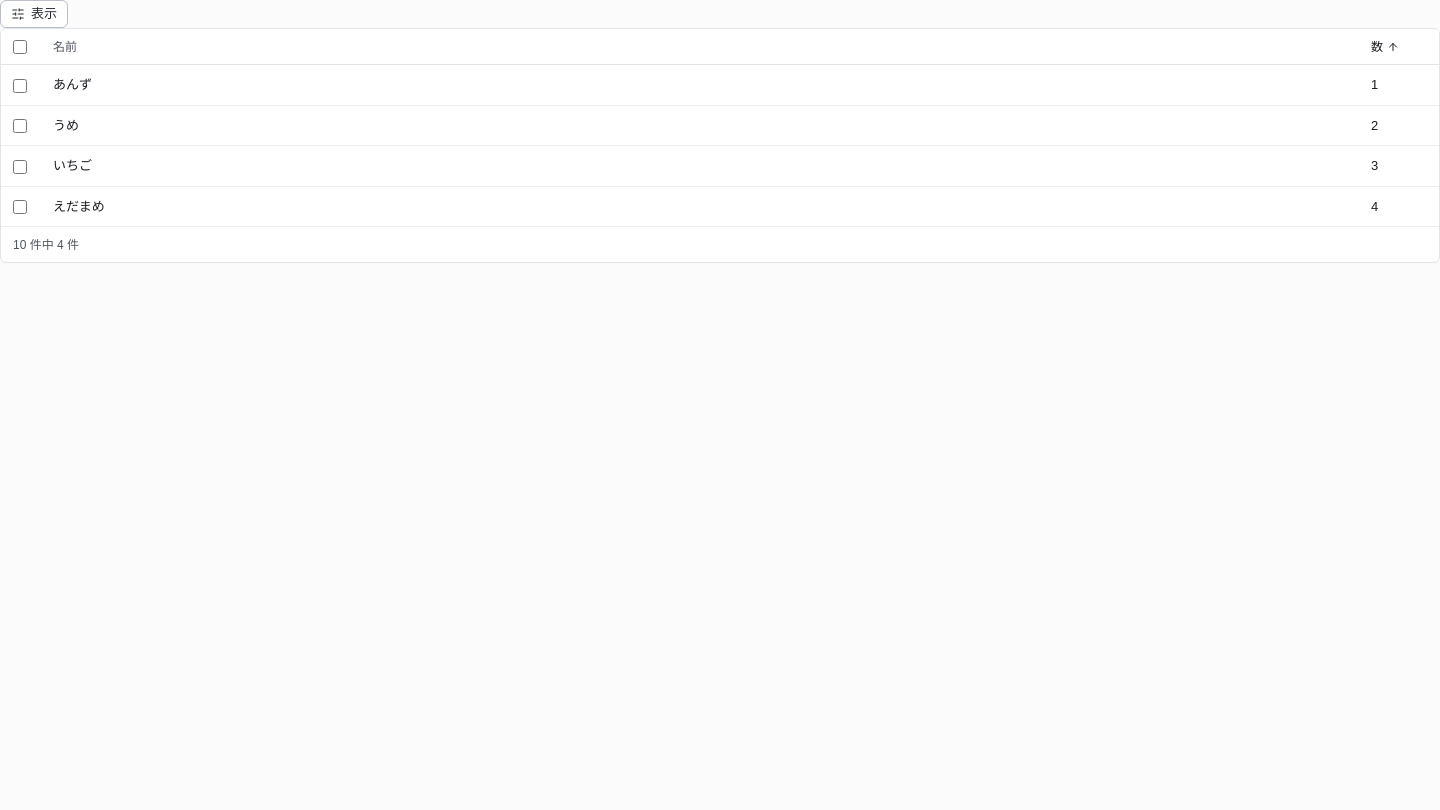
Test case: DataTable › hides a column and groups from the view menu
Later steps or results of the test are not shown.
Step 1. Click the button "表示" → click(34, 14), box [0,0,68,28]
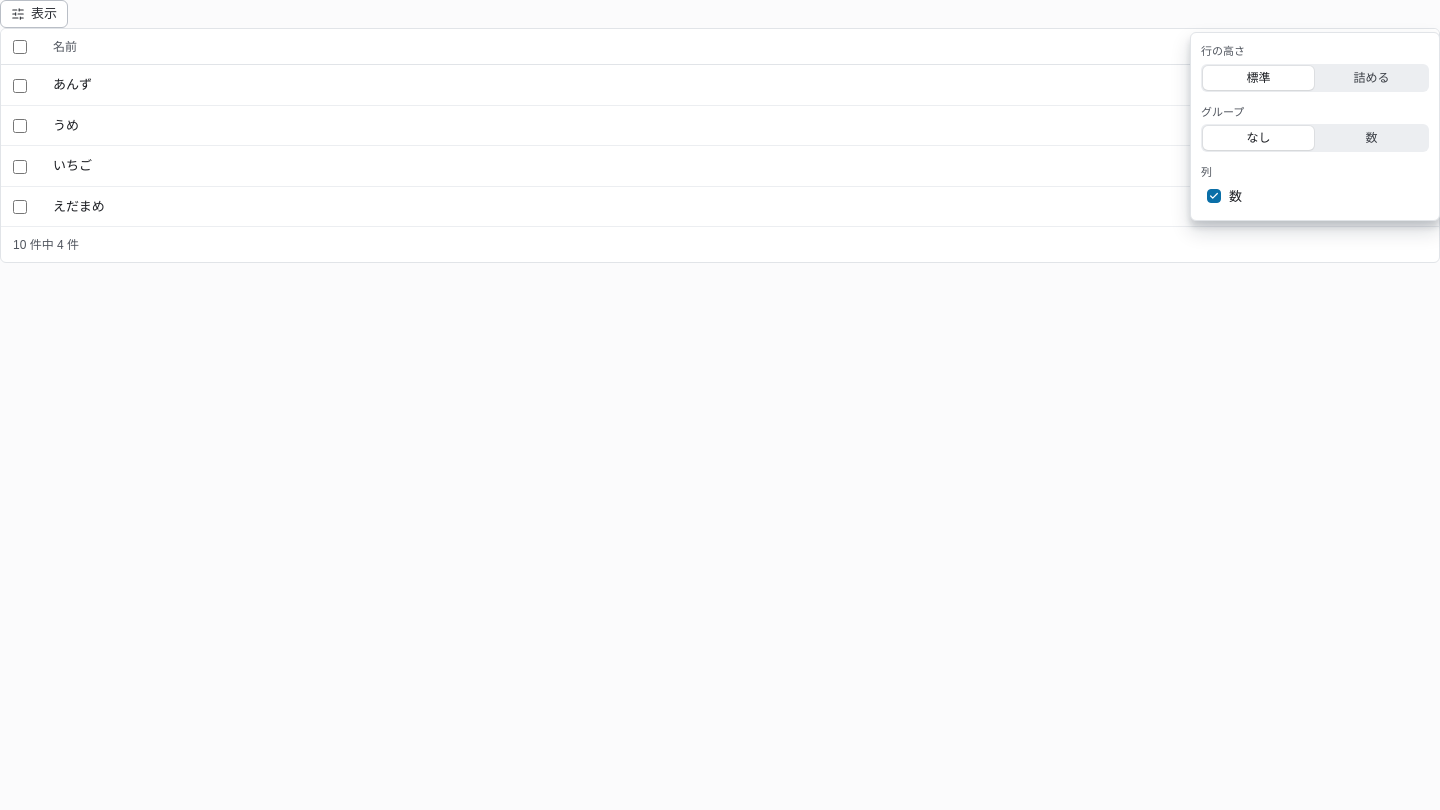
Step 2. Click the button "数" → click(1372, 138), box [1316,126,1427,150]
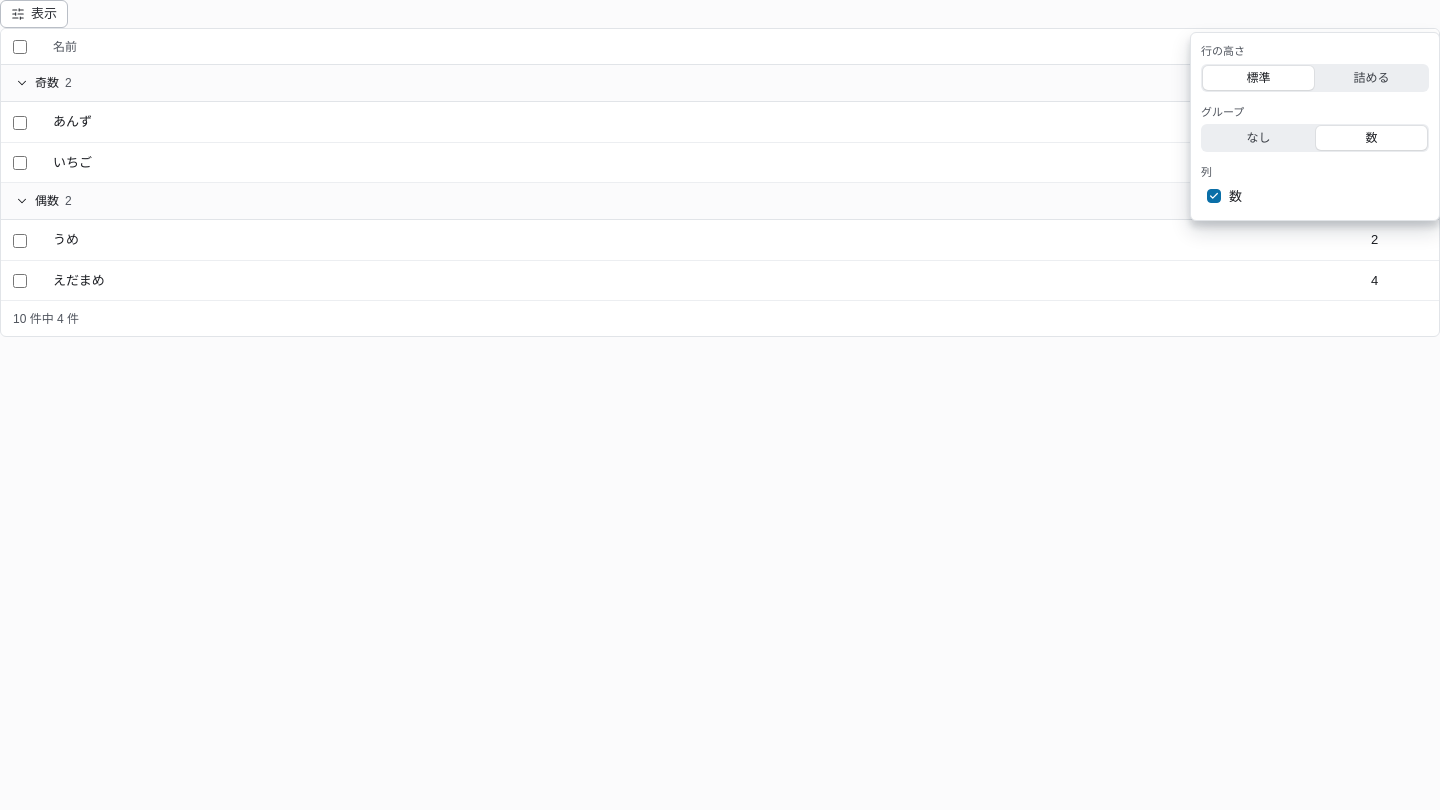
Expected: the button "奇数 2" is shown, [9,69,78,97]
